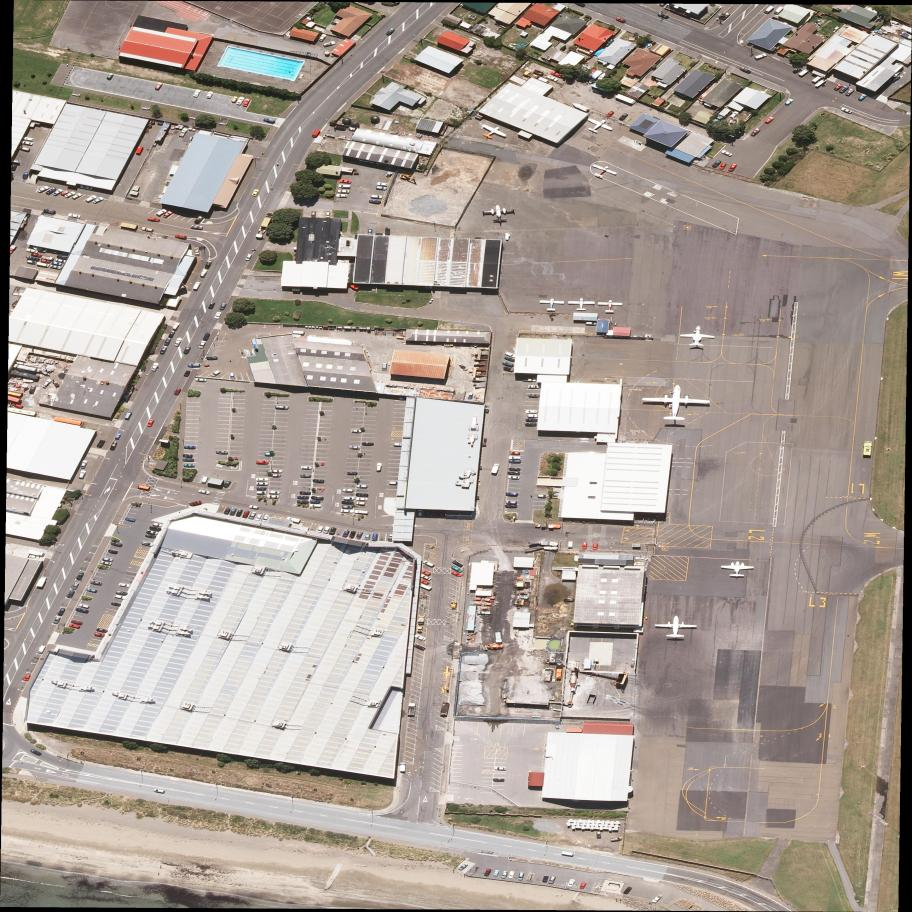large-vehicle: (255, 210, 275, 240), (36, 575, 48, 589), (813, 78, 827, 89), (524, 70, 539, 80), (651, 893, 663, 905), (798, 67, 810, 78), (491, 462, 501, 475), (764, 4, 775, 15), (811, 74, 823, 84), (407, 703, 416, 716), (546, 73, 559, 82), (864, 442, 872, 456), (192, 280, 202, 291), (286, 516, 301, 523), (538, 76, 551, 84), (37, 644, 46, 655), (754, 53, 768, 60), (495, 631, 503, 643), (420, 583, 432, 591), (124, 410, 133, 420), (561, 851, 576, 857), (201, 475, 209, 485), (41, 255, 54, 261), (399, 762, 406, 772), (36, 262, 50, 267), (354, 510, 369, 514), (567, 541, 573, 549)
plane: (641, 383, 710, 420), (578, 111, 619, 140), (473, 117, 511, 146), (655, 615, 698, 638), (586, 159, 620, 184), (680, 325, 715, 346), (482, 204, 515, 222), (720, 561, 755, 577), (568, 298, 596, 311), (597, 300, 623, 312), (539, 298, 565, 310)
small-vehicle: (94, 436, 108, 450), (601, 36, 615, 48), (192, 214, 205, 226), (728, 108, 740, 120), (750, 126, 762, 138), (727, 161, 738, 174), (42, 377, 53, 389), (838, 84, 850, 95), (162, 209, 175, 219), (45, 186, 58, 196), (85, 194, 98, 204), (385, 26, 396, 37), (618, 112, 629, 123), (711, 159, 722, 170), (162, 336, 173, 347), (844, 87, 855, 98), (173, 336, 183, 348), (236, 95, 246, 107), (156, 207, 168, 217), (199, 267, 209, 279), (52, 187, 64, 197), (37, 185, 50, 194), (64, 190, 77, 199), (840, 106, 853, 115), (739, 66, 752, 75), (150, 361, 160, 372), (791, 65, 802, 75), (248, 510, 258, 521), (213, 310, 223, 321), (192, 88, 202, 99), (623, 885, 633, 896), (764, 115, 775, 125), (784, 97, 795, 107), (458, 862, 469, 872), (210, 369, 222, 378), (30, 748, 42, 757), (109, 440, 118, 452), (414, 643, 426, 652), (451, 565, 463, 574), (146, 216, 161, 223), (92, 196, 105, 204), (550, 70, 563, 78), (614, 16, 627, 24), (657, 12, 670, 20), (501, 360, 514, 368), (414, 634, 427, 642), (858, 92, 868, 102), (834, 82, 844, 92), (198, 339, 207, 350), (203, 331, 212, 342), (172, 321, 181, 332), (318, 32, 327, 43), (242, 97, 251, 108), (154, 81, 163, 92), (251, 187, 260, 198), (78, 469, 87, 480), (158, 345, 167, 356), (167, 329, 176, 340), (316, 524, 325, 535), (507, 869, 516, 880), (567, 878, 576, 889), (484, 867, 493, 878), (451, 569, 462, 578), (145, 529, 159, 536), (76, 607, 90, 614), (189, 500, 203, 507), (71, 192, 83, 200), (721, 149, 733, 157), (504, 351, 516, 359), (204, 259, 212, 271), (423, 560, 435, 568), (452, 560, 464, 568), (18, 146, 31, 153), (71, 619, 84, 626), (110, 541, 123, 548), (502, 366, 515, 373), (146, 418, 155, 428), (254, 512, 263, 522), (205, 90, 214, 100), (244, 252, 253, 262), (23, 672, 32, 682), (76, 572, 85, 582), (53, 615, 62, 625), (261, 513, 270, 523), (183, 345, 191, 356), (242, 509, 250, 520), (208, 300, 216, 311), (29, 385, 37, 396), (548, 875, 556, 886), (356, 530, 364, 541), (421, 569, 432, 577), (145, 533, 157, 540), (174, 234, 188, 240), (86, 587, 98, 594), (504, 356, 516, 363), (420, 574, 432, 581), (606, 110, 615, 119), (718, 162, 727, 171), (51, 380, 60, 389), (579, 881, 588, 890), (173, 387, 181, 397), (224, 479, 232, 489), (235, 508, 243, 518), (219, 302, 227, 312), (72, 581, 80, 591), (58, 607, 66, 617), (80, 459, 88, 469), (342, 529, 350, 539), (323, 525, 331, 535), (329, 527, 337, 537), (349, 530, 357, 540), (542, 874, 550, 884), (198, 489, 211, 495), (141, 541, 154, 547), (323, 41, 336, 47), (141, 227, 154, 233), (190, 225, 203, 231), (21, 140, 34, 146), (80, 185, 93, 191), (43, 209, 56, 215), (90, 580, 103, 586), (115, 590, 128, 596), (114, 594, 127, 600), (68, 213, 81, 219), (68, 623, 81, 629), (26, 248, 39, 254), (149, 525, 162, 531), (223, 507, 231, 516), (263, 117, 275, 123), (106, 72, 114, 81), (23, 136, 35, 142), (28, 554, 40, 560), (230, 507, 237, 517), (275, 405, 289, 410), (311, 496, 325, 501), (501, 870, 508, 880), (518, 871, 525, 881), (152, 522, 163, 528), (94, 632, 105, 638), (110, 601, 121, 607), (339, 179, 352, 184), (369, 200, 382, 205), (96, 628, 109, 633), (508, 471, 521, 476), (506, 492, 519, 497), (505, 504, 518, 509), (356, 493, 369, 498), (184, 369, 191, 378), (231, 95, 238, 104), (115, 432, 122, 441), (493, 869, 500, 878), (592, 542, 599, 551), (421, 579, 430, 586), (153, 788, 165, 793), (376, 182, 388, 187), (119, 583, 131, 588), (100, 561, 112, 566), (50, 265, 62, 270), (55, 258, 67, 263), (611, 837, 623, 842), (509, 467, 521, 472), (506, 500, 518, 505), (310, 210, 316, 220), (296, 499, 308, 504), (106, 549, 118, 554), (313, 479, 325, 484), (376, 462, 382, 472), (229, 372, 236, 380), (340, 509, 354, 513), (387, 534, 394, 542), (249, 505, 260, 510), (376, 186, 387, 191), (79, 604, 90, 609), (125, 517, 136, 522), (40, 259, 51, 264), (31, 253, 42, 258), (52, 261, 63, 266), (23, 171, 29, 180), (582, 541, 588, 550), (338, 184, 351, 188), (528, 385, 541, 389), (525, 410, 538, 414), (256, 461, 269, 465), (256, 482, 269, 486), (256, 478, 269, 482), (216, 451, 228, 455), (195, 378, 207, 382), (183, 458, 195, 462), (336, 194, 348, 198), (371, 195, 383, 199), (525, 423, 537, 427), (509, 460, 521, 464), (508, 476, 520, 480), (385, 227, 391, 235), (309, 499, 321, 503), (343, 496, 355, 500), (356, 497, 368, 501), (310, 504, 322, 508), (342, 488, 354, 492), (301, 466, 313, 470), (493, 778, 505, 782), (362, 442, 374, 446), (372, 534, 378, 542), (365, 533, 371, 541), (185, 445, 196, 449), (103, 558, 114, 562), (351, 429, 362, 433), (529, 394, 540, 398), (527, 414, 538, 418), (510, 451, 521, 455), (206, 356, 217, 360), (298, 496, 309, 500), (256, 491, 267, 495), (300, 491, 311, 495), (300, 474, 311, 478), (183, 454, 193, 458), (538, 495, 548, 499), (343, 505, 353, 509), (508, 456, 521, 459), (266, 495, 279, 498), (188, 364, 200, 367), (338, 190, 350, 193), (526, 419, 538, 422), (269, 491, 281, 494), (271, 470, 283, 473), (495, 767, 507, 770), (184, 464, 195, 467), (349, 446, 360, 449), (586, 322, 597, 325), (342, 501, 353, 504), (256, 487, 267, 490), (357, 485, 368, 488), (347, 472, 358, 475), (273, 474, 281, 478), (368, 229, 373, 235), (265, 453, 275, 456), (356, 502, 366, 505), (326, 211, 330, 218), (597, 832, 601, 839), (346, 240, 350, 246)
